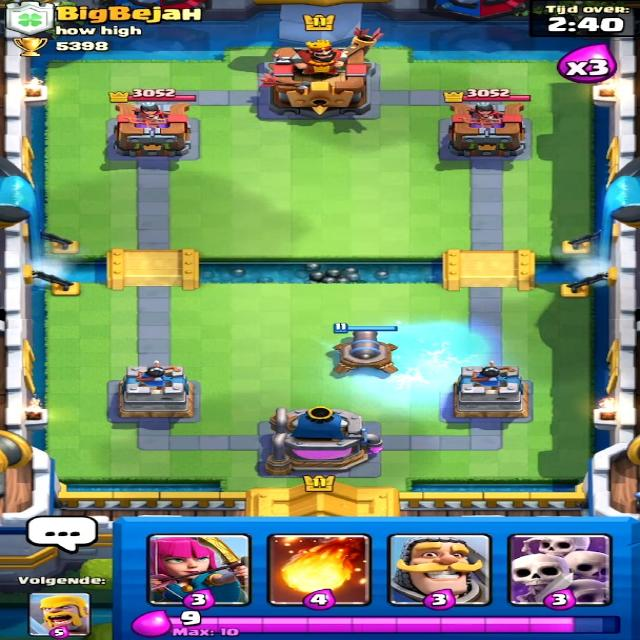Cannon_Troop: (324, 321, 402, 374)
Fireball_Card: (268, 531, 370, 609)
